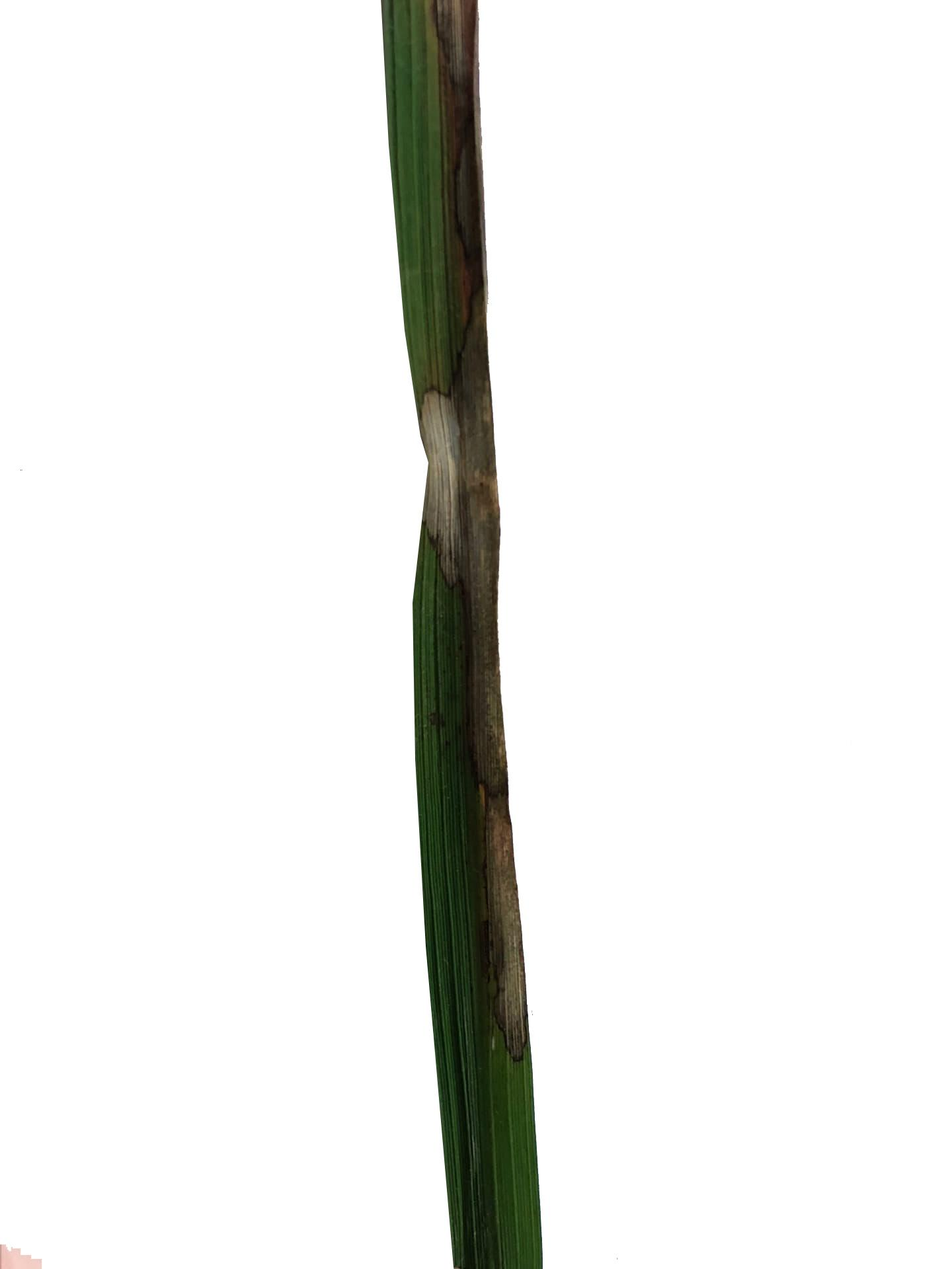Blight: (443, 562, 519, 1048), (423, 360, 499, 558)
